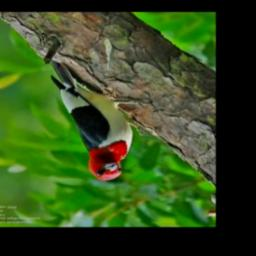Woodpecker: (45, 61, 148, 182)
